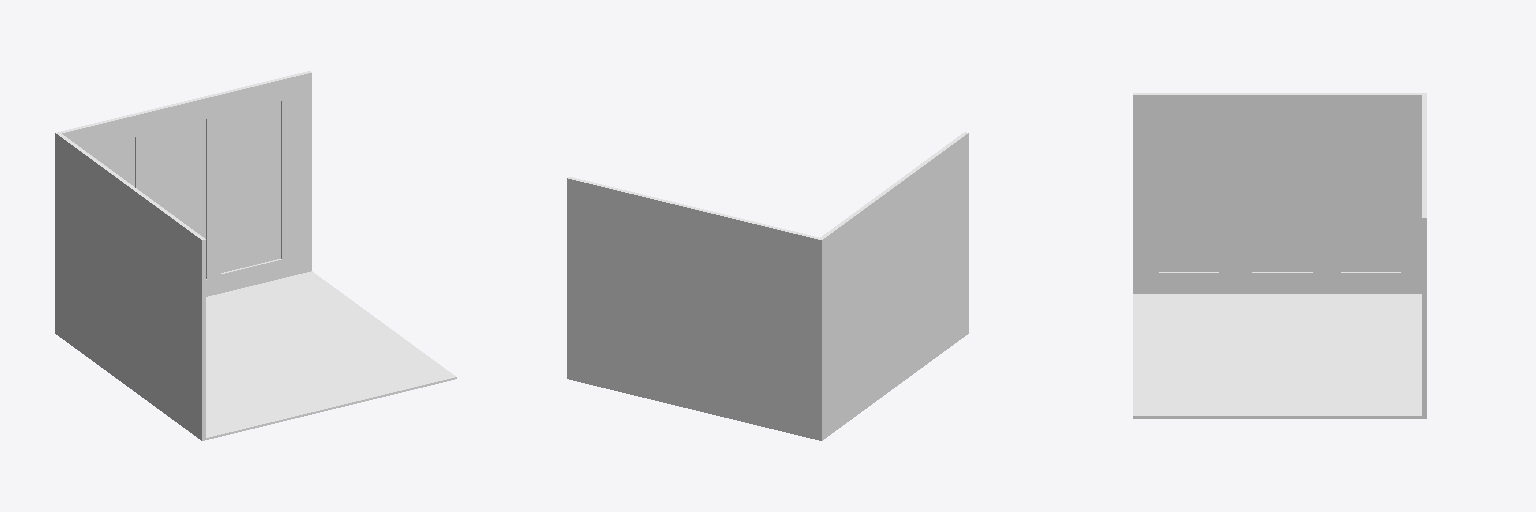
Rendered from trialmesh.obj.
The picture shows the model from 3 angles: view 1: azimuth 30°, elevation 25°; view 2: azimuth 150°, elevation 25°; view 3: azimuth 270°, elevation 25°; orthographic projection.
Size of the model in its own units: 126 by 95 by 126.